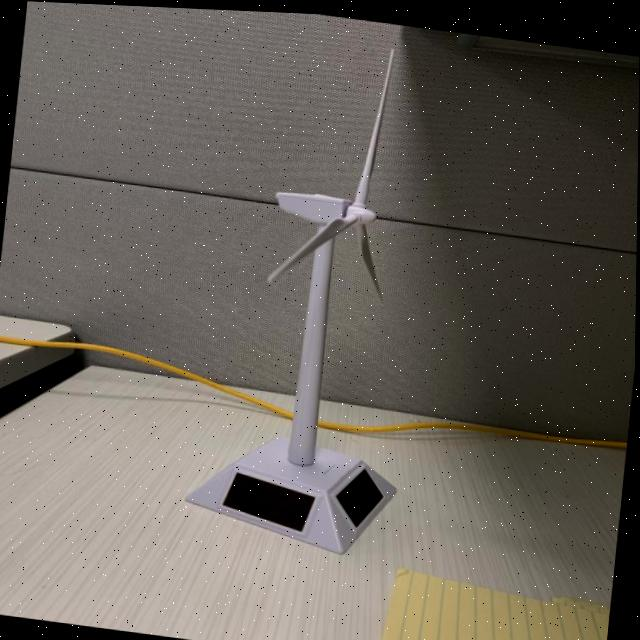solid-blade: (355, 44, 392, 201), (268, 214, 353, 279), (358, 220, 382, 297)
